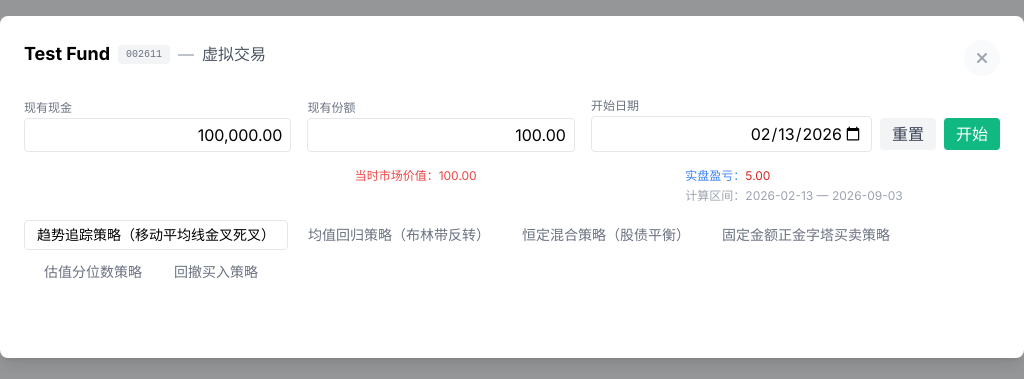
Test: VirtualTradeModal real profit display › recomputes real profit when selected start date changes and ends at today valuation
Check: the text "实盘盈亏：5.00" is shown, box [685,168,770,183]
In the date field labelled "开始日期": (731, 134) [591,116,872,152], type "2026-02-15"
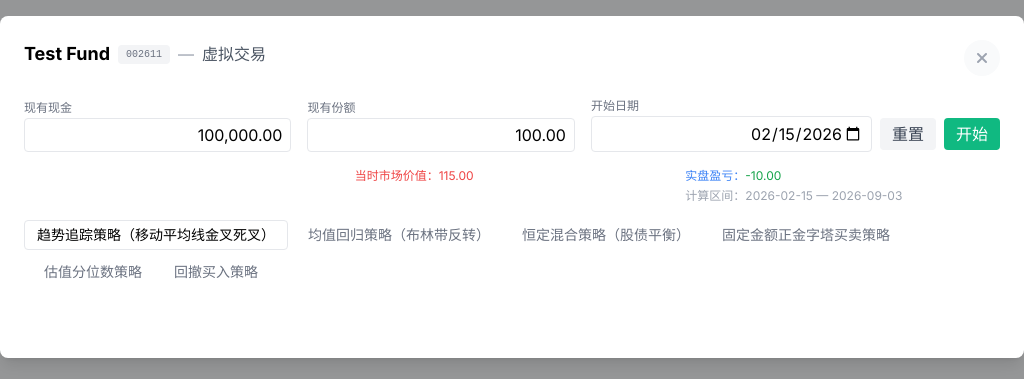
Check: the text "实盘盈亏：-10.00" is shown, box [685,168,781,183]
